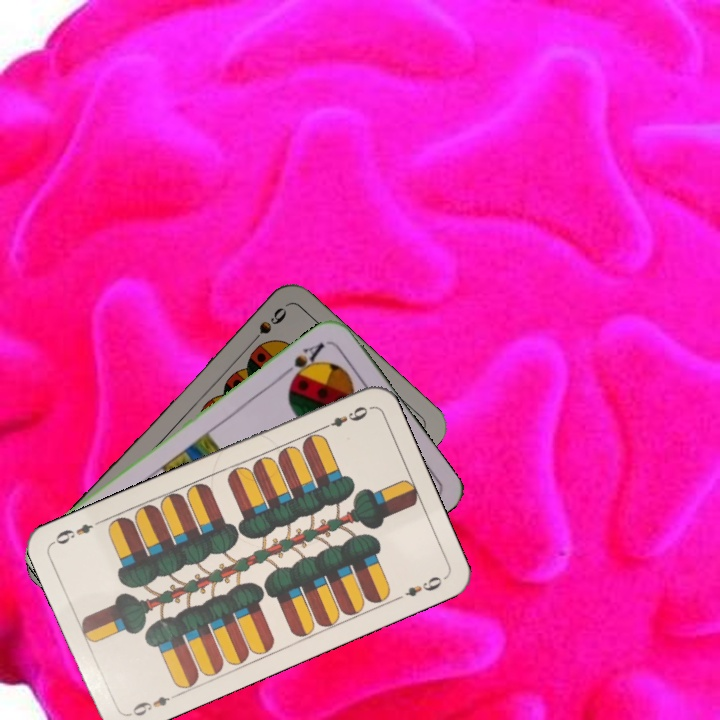E9: (317, 402, 371, 433), (124, 690, 181, 719)
S9: (244, 303, 290, 350)
SA: (278, 337, 327, 385)
